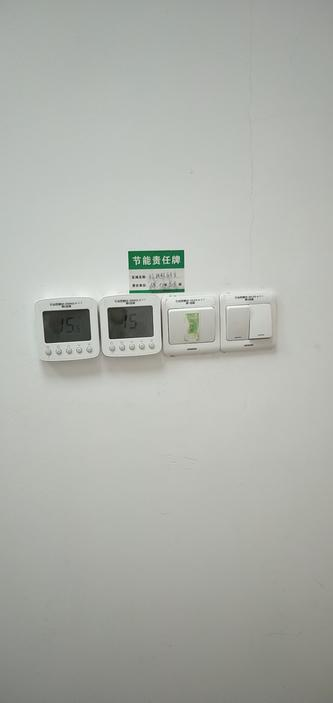switch: (170, 308, 216, 344), (224, 303, 249, 340), (251, 302, 272, 340)
